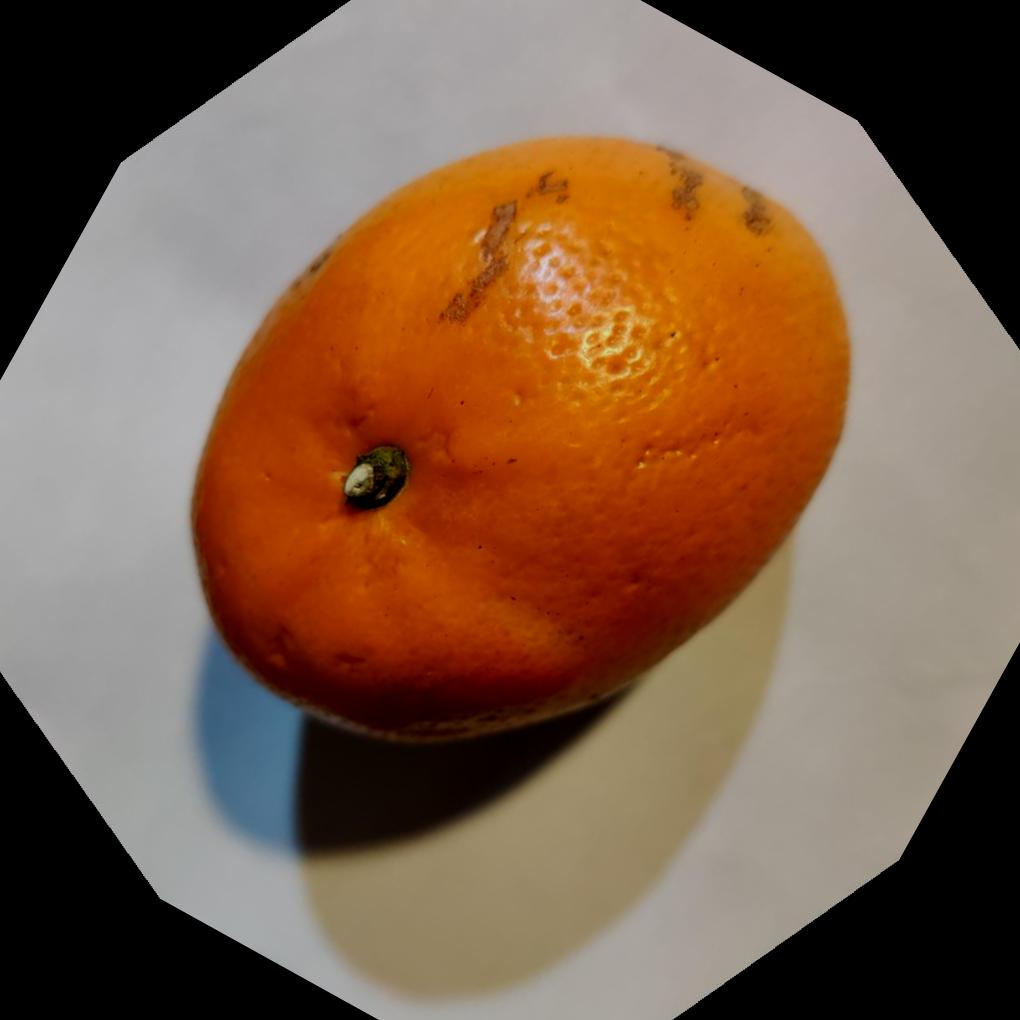FreshGuava: (189, 128, 856, 750)
